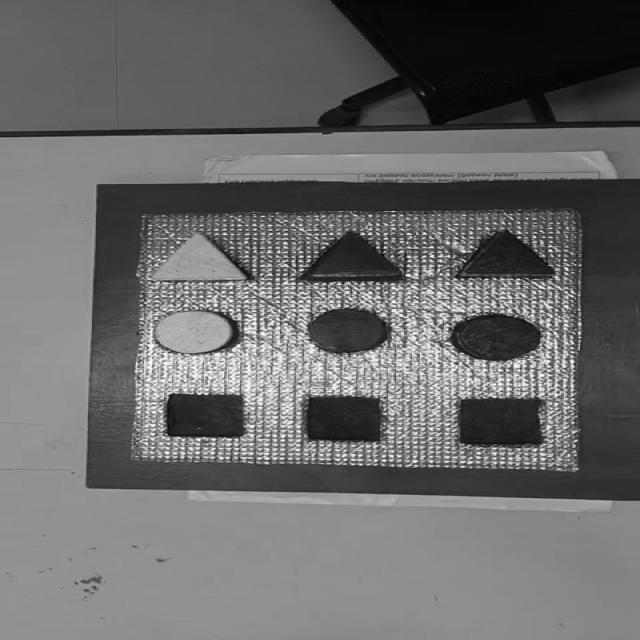bcircle: (451, 314, 543, 361)
btriangle: (456, 229, 558, 279)
mtcube: (456, 396, 543, 446), (164, 392, 244, 438), (305, 396, 384, 442)
rcircle: (306, 307, 391, 354)
rtriangle: (298, 231, 405, 281)
wb: (128, 210, 586, 469)
ycircle: (153, 309, 238, 355)
ytriangle: (150, 231, 251, 282)
